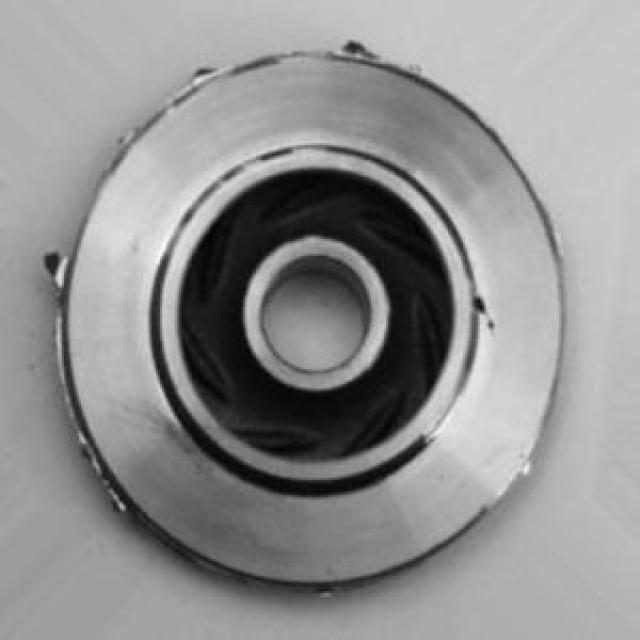Defect: (26, 239, 81, 296)
